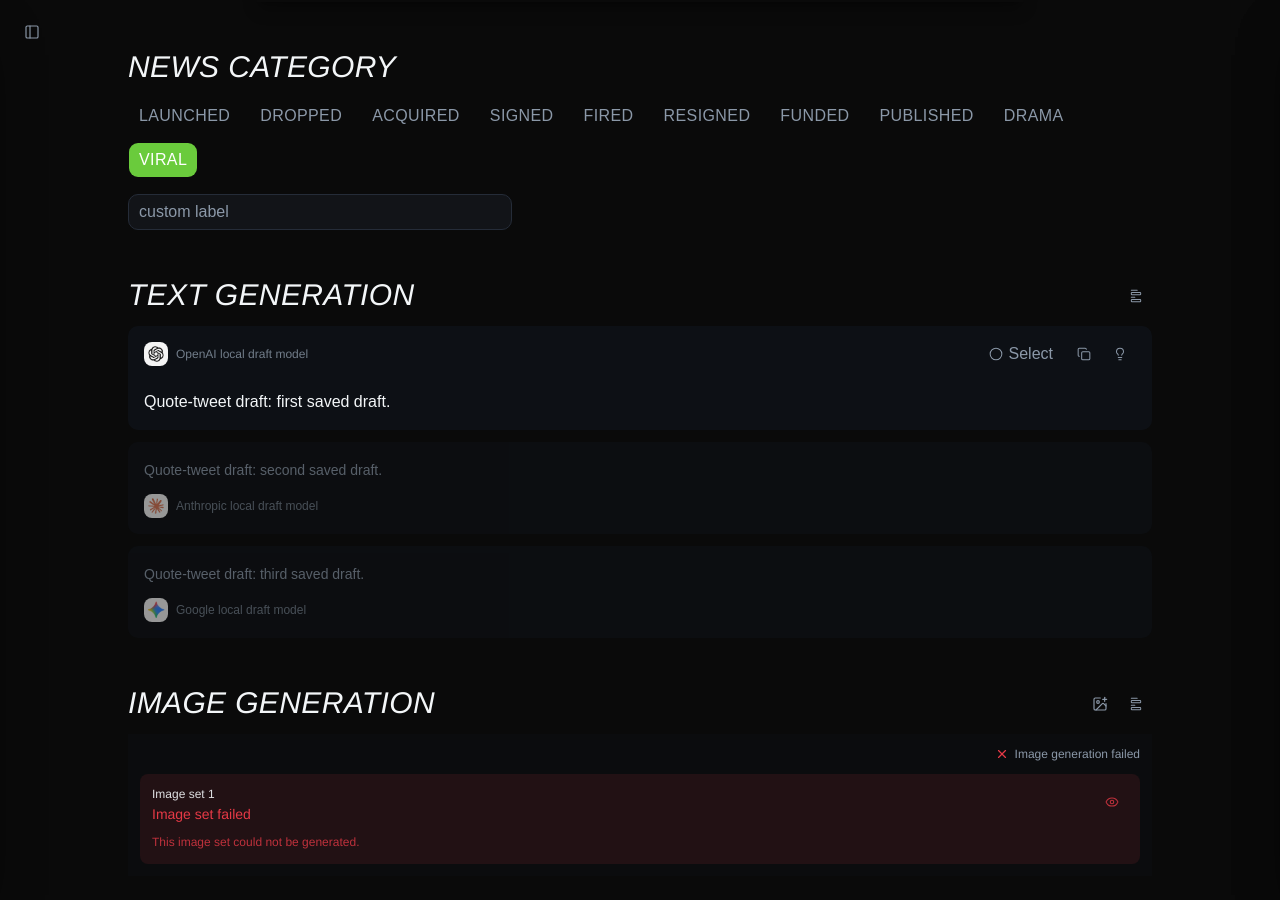
Test case: Workspace image generation › renders a failed image state with quiet failure details
This screenshot has width=1280, height=900.
(page scrolled)
Expected: the element "Image set 1" shows "This image set could not be generated.", left=152, top=835, right=360, bottom=849
Expected: the element "Image set 1" does not show "The configured image model failed.", left=140, top=774, right=1140, bottom=864
Click the button named "open quiet failure details for image set 1".
click(1112, 802)  # box left=1096, top=786, right=1128, bottom=818
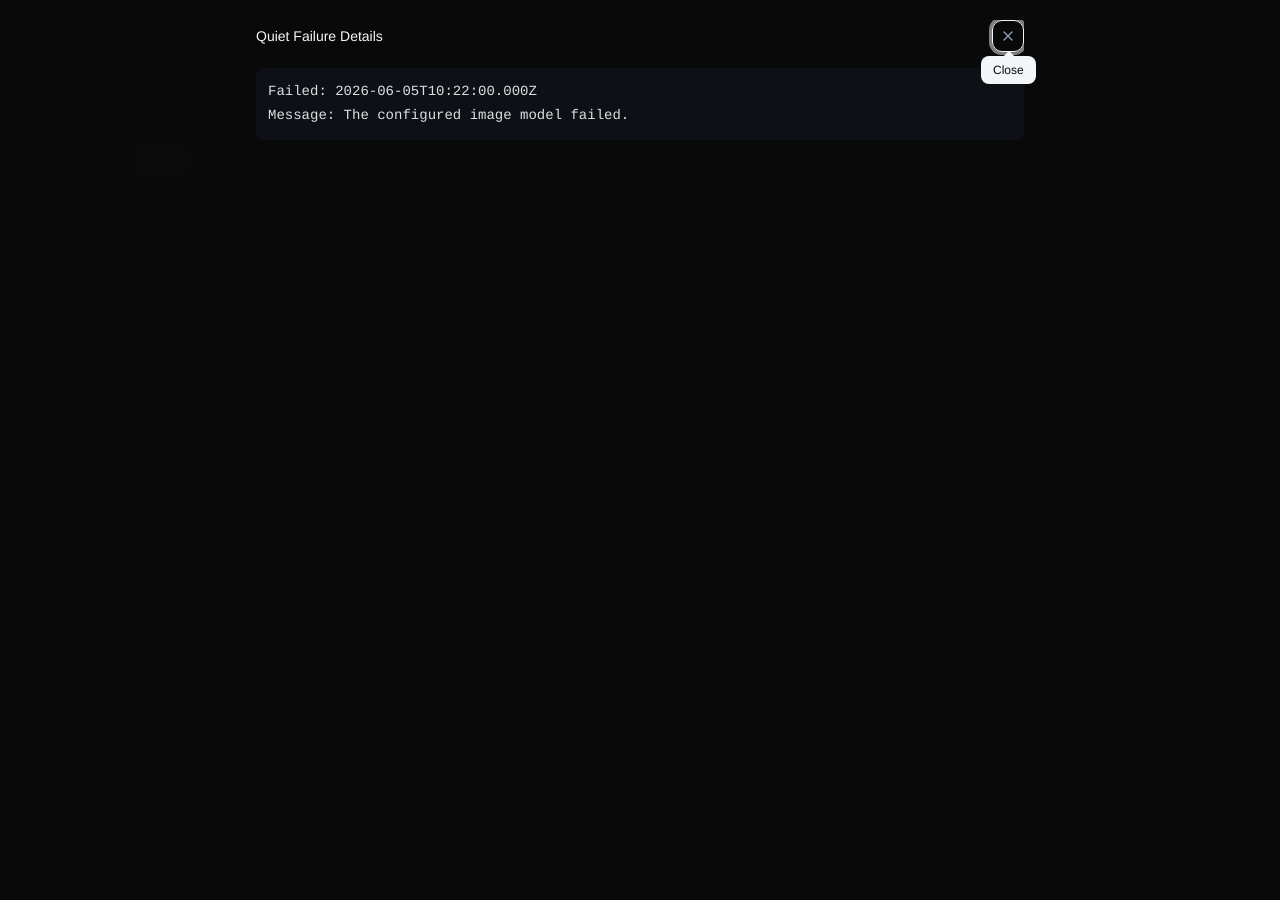
Now the dialog "Quiet Failure Details" shows "The configured image model failed.", box left=268, top=84, right=629, bottom=124
